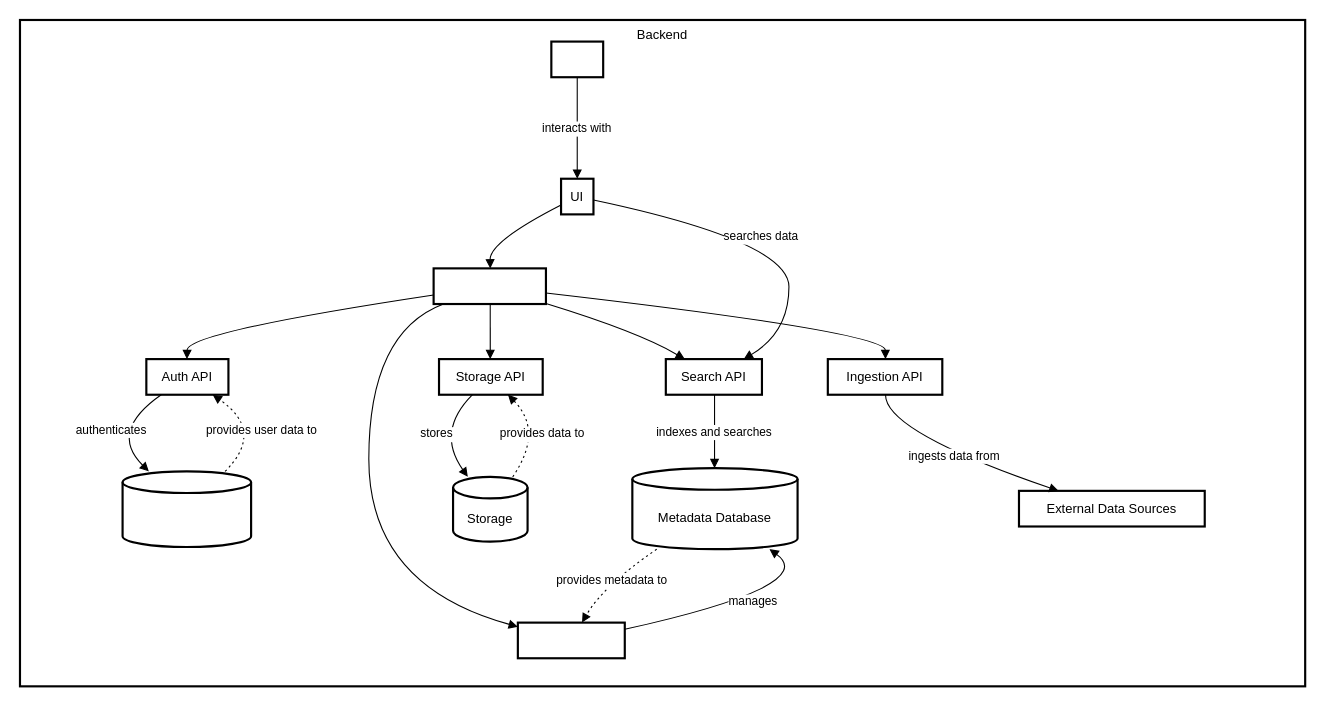
This 1324x705 diagram has some shape labels left out. Here are the shapes that lost their labels. From the top down, the centre of each, then its label:
the point at 577,59: User
the point at 489,286: Gateway API
the point at 186,509: Auth Database
the point at 570,640: Registry API
